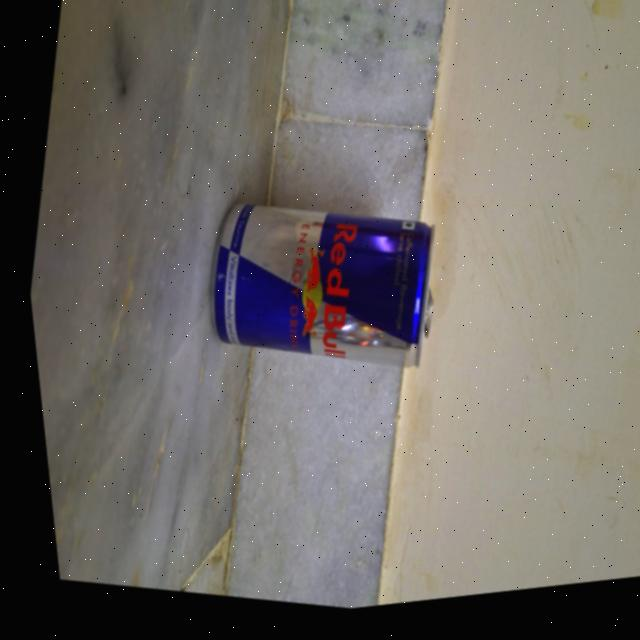Redbul: (163, 160, 453, 415)
